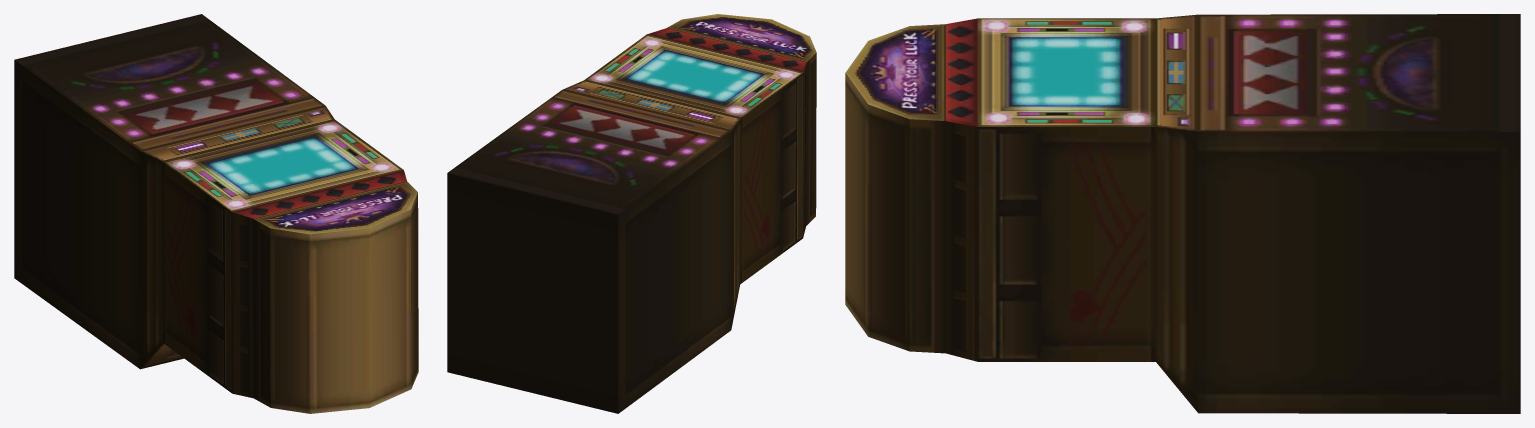
File: Lottery_Draw_837e00ce__Lottery_Draw_b05c57f0_c1f257.obj
The picture shows the model from 3 angles, left to right: view 1: azimuth 30°, elevation 25°; view 2: azimuth 150°, elevation 25°; view 3: azimuth 270°, elevation 25°; orthographic projection. The views are drawn at different scales.
Bounding box in the file's own units: 1.12 × 1.24 × 2.7.
Materials: 1 (1 with a texture image).
